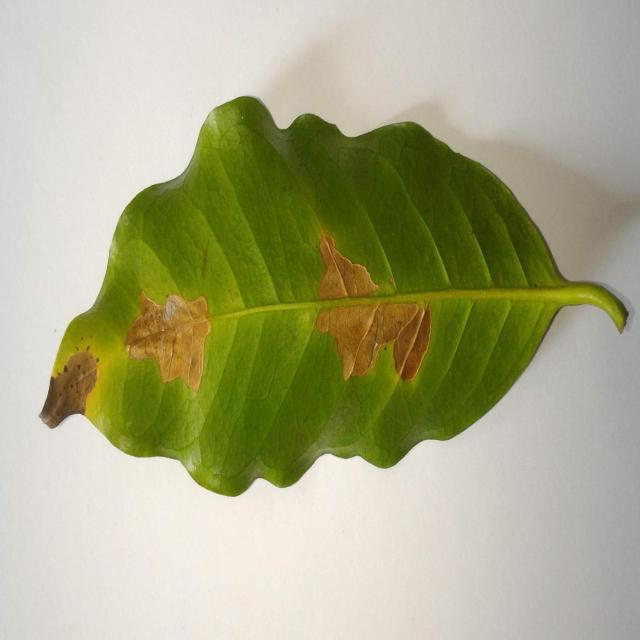Plaga-Minador: (38, 96, 630, 499)
